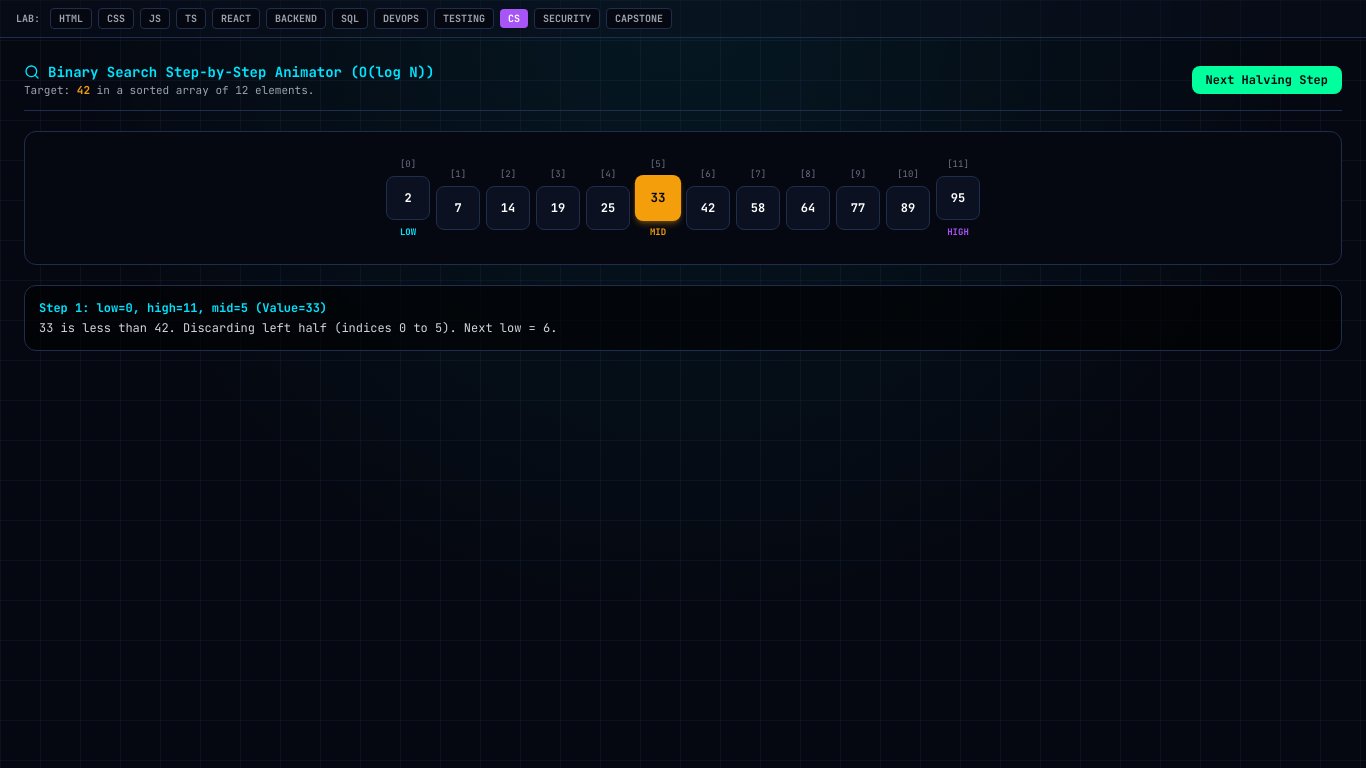
Test case: RealmConceptVisualizer Component › switches to Computer Science lab and animates binary search halving steps
This screenshot has width=1366, height=768.
Expected: the heading "Binary Search Step-by-Step Animator (O(log N))" is shown, [24,62,434,82]
Expected: the text "Target: 42 in a sorted array of 12 elements." is shown, [24,83,314,97]
Click the button "Next Halving Step" at (1267, 80), box [1192,66,1342,94]
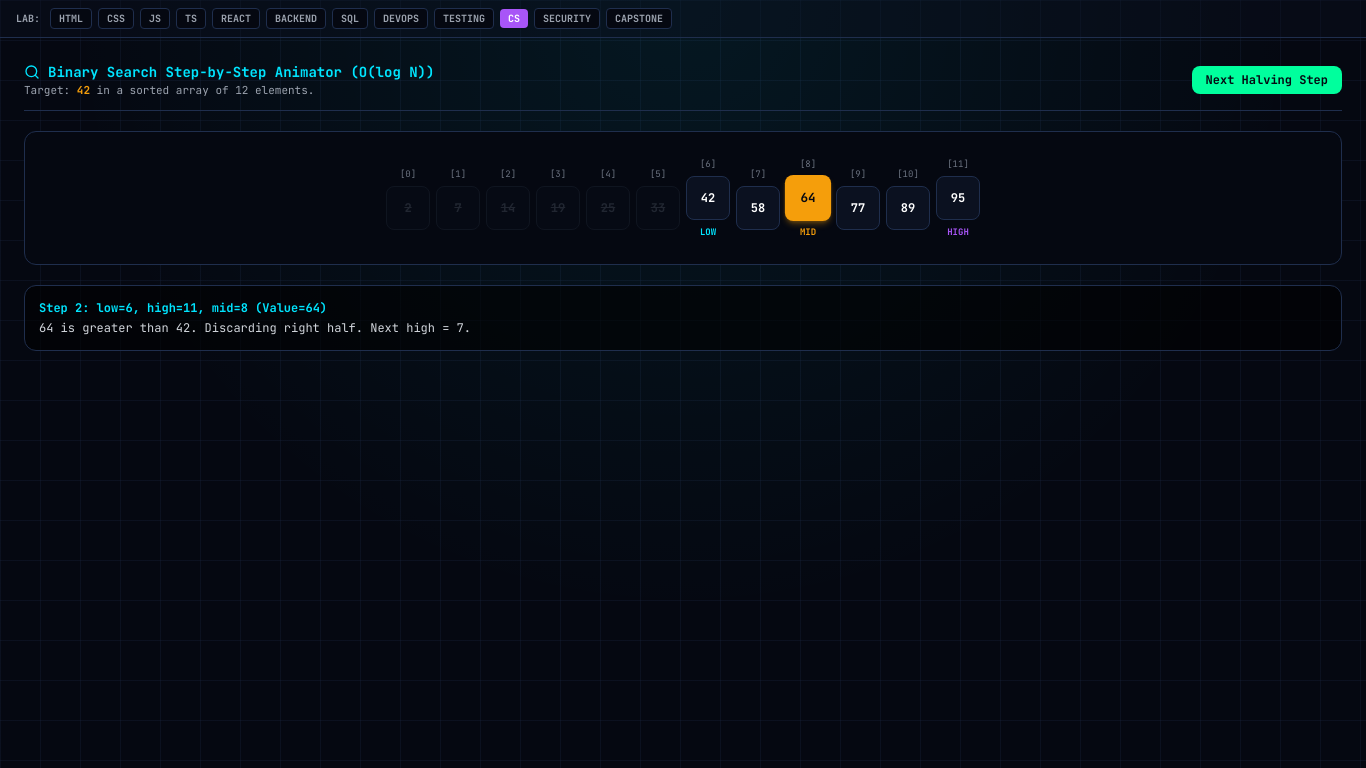
Click the button "Next Halving Step" at (1267, 80), box [1192,66,1342,94]
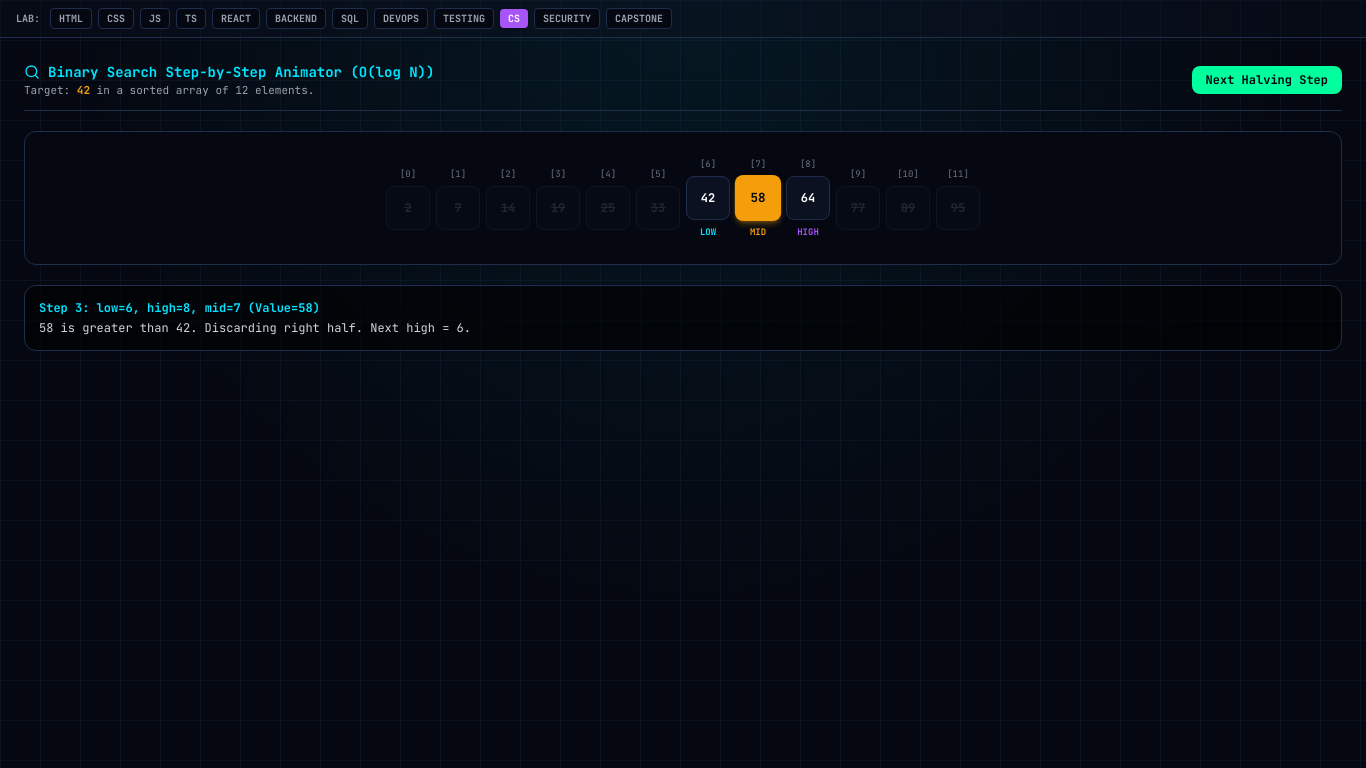
Note: Step 3 (reaches target 42)
Click the button "Next Halving Step" at (1267, 80), box [1192,66,1342,94]
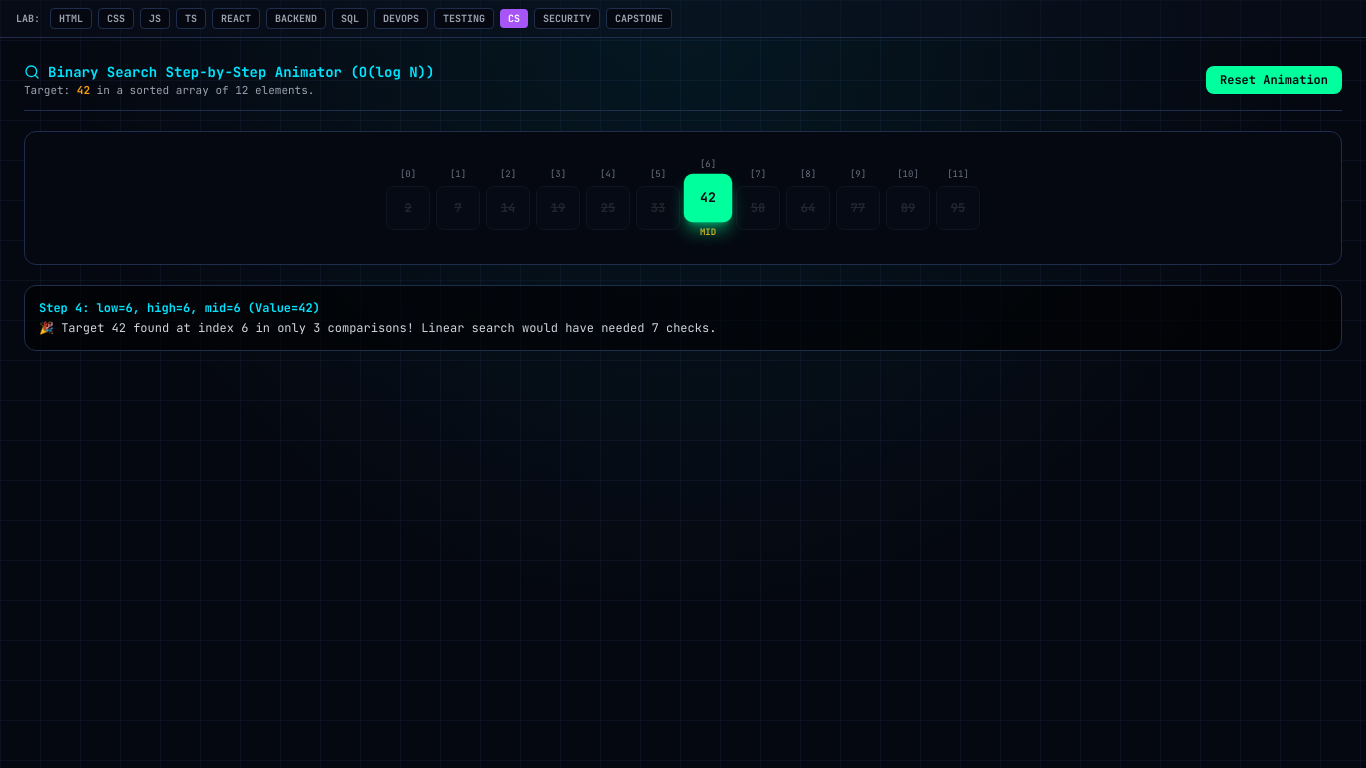
Result: the text "Target 42 found at index 6 in only 3 comparisons!" is shown at [39,320,716,336]
